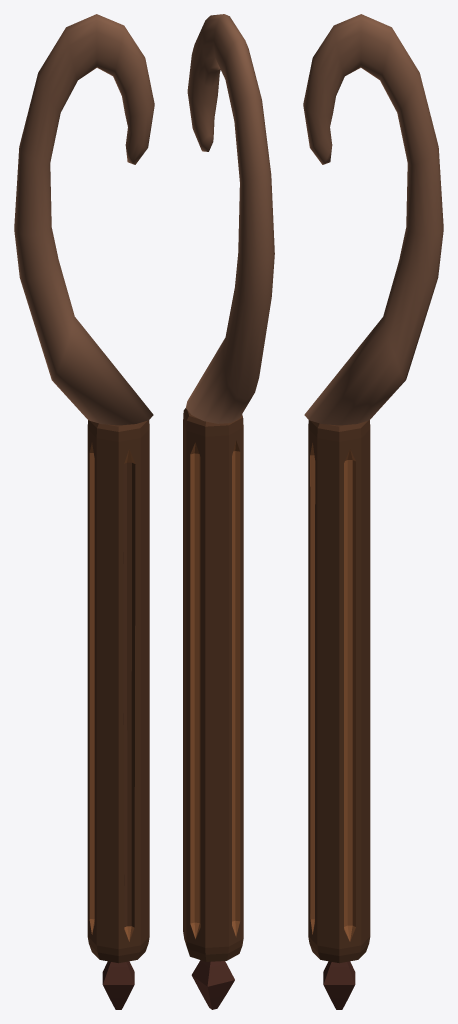
The model's file is Wand 585.glb.
3 views of the same model, side by side, from view 1: azimuth 90°, elevation 25°; view 2: azimuth 210°, elevation 25°; view 3: azimuth 270°, elevation 25° (orthographic).
Visible parts, largest first — view 1: GeneratedWand; view 2: GeneratedWand; view 3: GeneratedWand.
Part boxes in pixels (x1=…): GeneratedWand: x1=14, y1=14, x2=154, y2=1009; GeneratedWand: x1=183, y1=14, x2=274, y2=1009; GeneratedWand: x1=303, y1=14, x2=443, y2=1009.
Size of the model in its own units: 0.0289 by 0.5104 by 0.0654.
